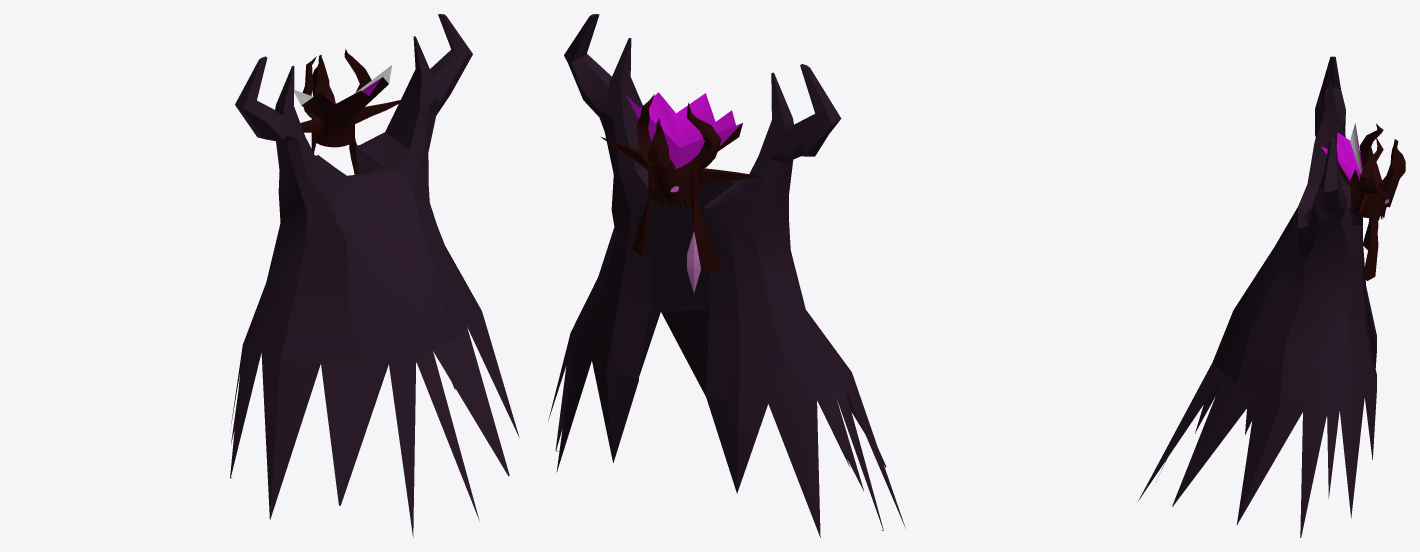
File: monster fix.fbx
The picture shows the model from 3 angles, left to right: view 1: azimuth 30°, elevation 25°; view 2: azimuth 150°, elevation 25°; view 3: azimuth 270°, elevation 25°; orthographic projection. The views are drawn at different scales.
Visible parts, largest first — view 1: pCube3; view 2: pCube3; view 3: pCube3.
Part boxes in pixels (box(x1,y1,x2,y2)): pCube3: box(230, 14, 519, 537); pCube3: box(548, 14, 905, 537); pCube3: box(1138, 56, 1405, 537).
Bounding box in the file's own units: 5.16 × 4.34 × 2.62.
